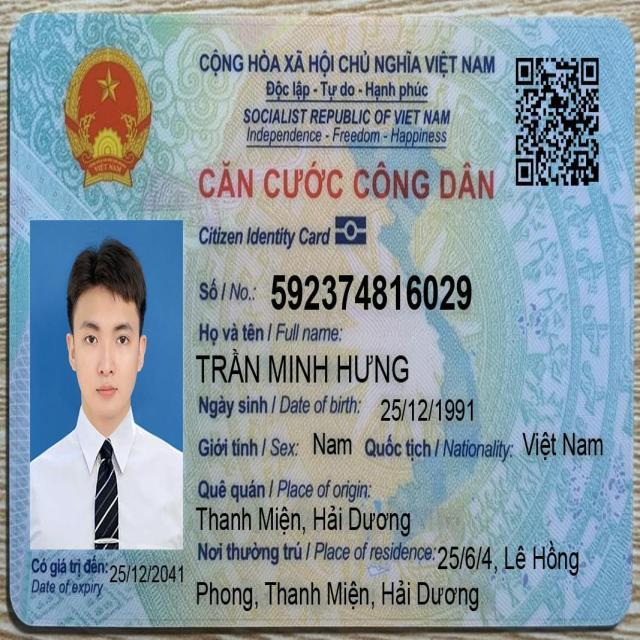current_place: (195, 577, 481, 616), (436, 536, 581, 579)
dob: (378, 394, 477, 426)
expire_date: (108, 560, 187, 587)
gender: (312, 428, 355, 461)
id: (266, 269, 475, 317)
name: (192, 344, 411, 390)
nationality: (520, 428, 606, 465)
origin_place: (192, 502, 413, 540)
qr: (512, 46, 604, 192)
